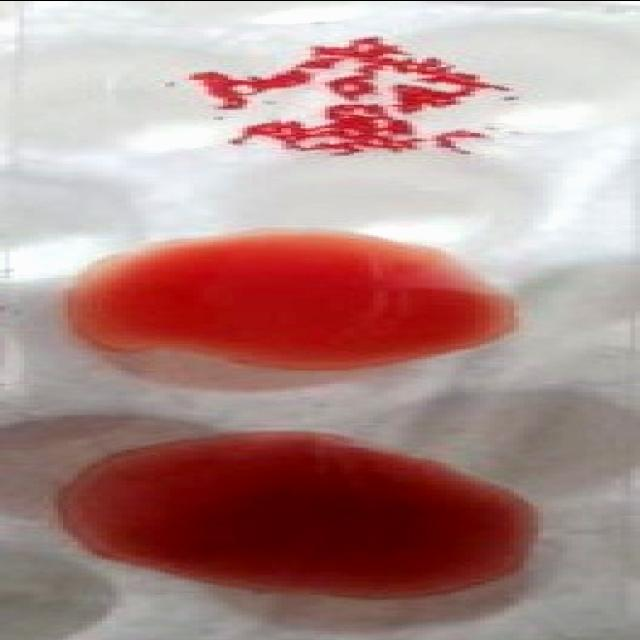D: (136, 40, 547, 158)
